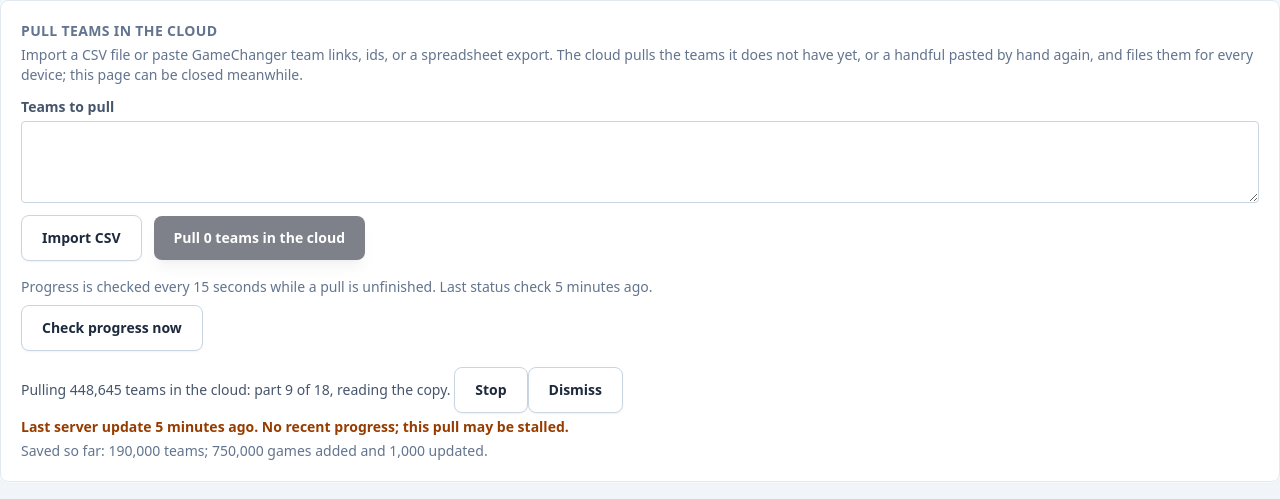
Scenario: visibility of a cloud pull › ages the last update even while a read hangs, and lets a manual check recover
The image size is (1280, 499).
Expected: the text "Last server update 5 minutes ago. No recent progress; this pull may be stalled." is shown, [21,417,569,436]
Click the button "Check progress now". click: (112,328)
box: [21,305,203,351]
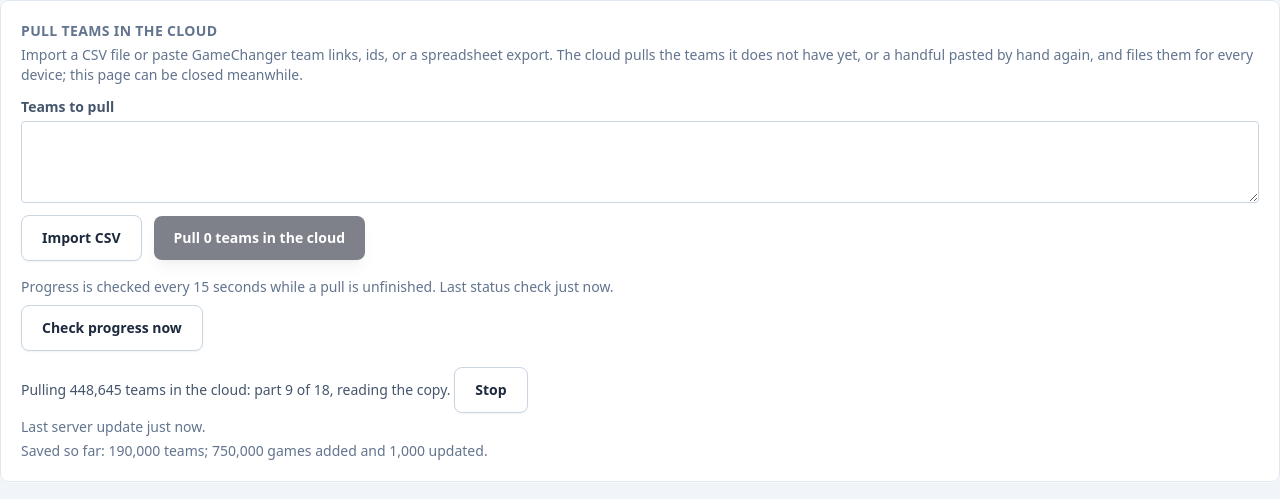
Expected: the text "Last server update just now." is shown, [21,417,205,436]
